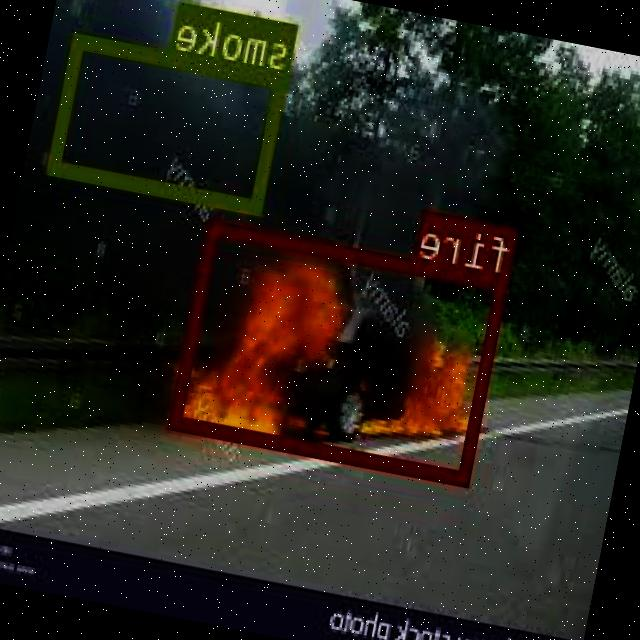fire: (172, 218, 513, 484)
smoke: (51, 31, 291, 212)
